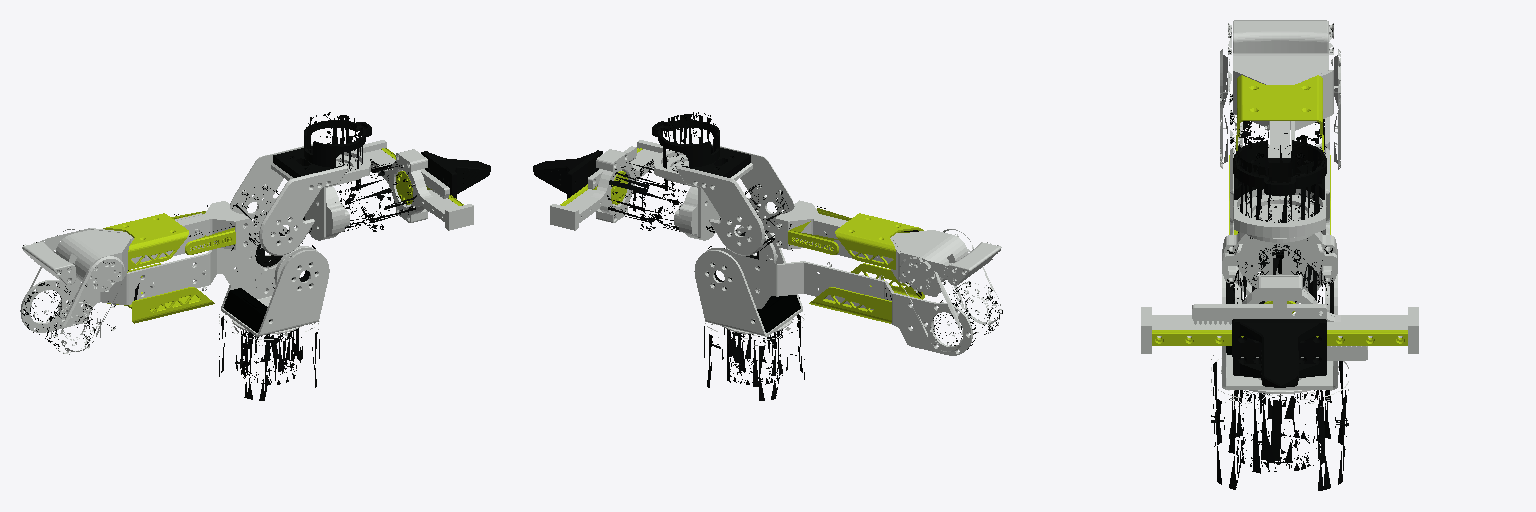
URDF robot description (ReBot_Arm_DM):
<?xml version='1.0' encoding='utf-8'?>
<robot name="ReBot_Arm_DM">
  <material name="gripper_finger_black">
    <color rgba="0.066667 0.074510 0.070588 1" />
  </material>
  <material name="gripper_carriage_grey">
    <color rgba="0.239 0.278 0.271 1" />
  </material>
  <material name="gripper_rack_metal">
    <color rgba="0.831373 0.847059 0.831373 1" />
  </material>
  <material name="gripper_seeed_yellow">
    <color rgba="0.725 0.835 0.118 1" />
  </material>
  <material name="gripper_hardware_black">
    <color rgba="0.019608 0.027451 0.023529 1" />
  </material>
  <material name="gripper_base_metal">
    <color rgba="0.831373 0.847059 0.831373 1" />
  </material>
  <material name="anodized_grey">
    <color rgba="0.831373 0.847059 0.831373 1" />
  </material>
  <material name="silver_trim">
    <color rgba="0.878431 0.890196 0.874510 1" />
  </material>
  <material name="seeed_yellow">
    <color rgba="0.73 0.84 0.12 1" />
  </material>
  <material name="matte_black">
    <color rgba="0.066667 0.074510 0.070588 1" />
  </material>
  <material name="hardware_black">
    <color rgba="0.019608 0.027451 0.023529 1" />
  </material>
  <link name="base_link">
    <inertial>
      <origin xyz="-7.849E-06 -1.1531E-06 0.029841" rpy="0 0 0" />
      <mass value="0.83660000" />
      <inertia ixx="0.00133040" ixy="0.00000001" ixz="0.00000000" iyy="0.00213119" iyz="0.00000000" izz="0.00275877" />
    </inertial>
    <visual name="base_link_silver_trim">
      <origin xyz="0 0 0" rpy="0 0 0" />
      <geometry>
        <mesh filename="visual/colored_base_link_silver_trim.stl" />
      </geometry>
      <material name="silver_trim" />
    </visual>
    <visual name="base_link_hardware_black">
      <origin xyz="0 0 0" rpy="0 0 0" />
      <geometry>
        <mesh filename="visual/colored_base_link_hardware_black.stl" />
      </geometry>
      <material name="hardware_black" />
    </visual>
    <visual name="base_link_matte_black">
      <origin xyz="0 0 0" rpy="0 0 0" />
      <geometry>
        <mesh filename="visual/colored_base_link_matte_black.stl" />
      </geometry>
      <material name="matte_black" />
    </visual>
  </link>
  <link name="link1">
    <inertial>
      <origin xyz="0.000113614552951627 -0.000616319527051323 0.0236476372671394" rpy="0 0 0" />
      <mass value="0.16130000" />
      <inertia ixx="0.00025207" ixy="0.00000000" ixz="-0.00002832" iyy="0.00015464" iyz="0.00000000" izz="0.00023416" />
    </inertial>
    <visual name="link1_matte_black">
      <origin xyz="0 0 0" rpy="0 0 0" />
      <geometry>
        <mesh filename="visual/colored_link1_matte_black.stl" />
      </geometry>
      <material name="matte_black" />
    </visual>
    <visual name="link1_hardware_black">
      <origin xyz="0 0 0" rpy="0 0 0" />
      <geometry>
        <mesh filename="visual/colored_link1_hardware_black.stl" />
      </geometry>
      <material name="hardware_black" />
    </visual>
    <visual name="link1_anodized_grey">
      <origin xyz="0 0 0" rpy="0 0 0" />
      <geometry>
        <mesh filename="visual/colored_link1_anodized_grey.stl" />
      </geometry>
      <material name="anodized_grey" />
    </visual>
  </link>
  <joint name="joint1" type="revolute">
    <origin xyz="-8.416E-05 0 0.08465" rpy="0 0 0" />
    <parent link="base_link" />
    <child link="link1" />
    <axis xyz="0 0 1" />
    <limit lower="-2.8" upper="2.8" effort="27" velocity="50" />
  </joint>
  <link name="link2">
    <inertial>
      <origin xyz="-0.13225622308888 -0.0030617036386309 -0.0308306967030205" rpy="0 0 0" />
      <mass value="1.32660000" />
      <inertia ixx="0.00073374" ixy="-0.00000043" ixz="0.00000851" iyy="0.01255987" iyz="0.00000128" izz="0.01281387" />
    </inertial>
    <visual name="link2_seeed_yellow">
      <origin xyz="0 0 0" rpy="0 0 0" />
      <geometry>
        <mesh filename="visual/colored_link2_seeed_yellow.stl" />
      </geometry>
      <material name="seeed_yellow" />
    </visual>
    <visual name="link2_matte_black">
      <origin xyz="0 0 0" rpy="0 0 0" />
      <geometry>
        <mesh filename="visual/colored_link2_matte_black.stl" />
      </geometry>
      <material name="matte_black" />
    </visual>
    <visual name="link2_hardware_black">
      <origin xyz="0 0 0" rpy="0 0 0" />
      <geometry>
        <mesh filename="visual/colored_link2_hardware_black.stl" />
      </geometry>
      <material name="hardware_black" />
    </visual>
    <visual name="link2_anodized_grey">
      <origin xyz="0 0 0" rpy="0 0 0" />
      <geometry>
        <mesh filename="visual/colored_link2_anodized_grey.stl" />
      </geometry>
      <material name="anodized_grey" />
    </visual>
  </link>
  <joint name="joint2" type="revolute">
    <origin xyz="0.020084 0.031625 0.05555" rpy="-1.5708 0 0" />
    <parent link="link1" />
    <child link="link2" />
    <axis xyz="0 0 -1" />
    <limit lower="-3.14" upper="0" effort="27" velocity="50" />
  </joint>
  <link name="link3">
    <inertial>
      <origin xyz="0.121040035791843 -0.0536211076627949 -0.0310137854608077" rpy="0 0 0" />
      <mass value="0.83530000" />
      <inertia ixx="0.00046807" ixy="-0.00003456" ixz="-0.00004260" iyy="0.00632695" iyz="0.00000006" izz="0.00648221" />
    </inertial>
    <visual name="link3_seeed_yellow">
      <origin xyz="0 0 0" rpy="0 0 0" />
      <geometry>
        <mesh filename="visual/colored_link3_seeed_yellow.stl" />
      </geometry>
      <material name="seeed_yellow" />
    </visual>
    <visual name="link3_matte_black">
      <origin xyz="0 0 0" rpy="0 0 0" />
      <geometry>
        <mesh filename="visual/colored_link3_matte_black.stl" />
      </geometry>
      <material name="matte_black" />
    </visual>
    <visual name="link3_hardware_black">
      <origin xyz="0 0 0" rpy="0 0 0" />
      <geometry>
        <mesh filename="visual/colored_link3_hardware_black.stl" />
      </geometry>
      <material name="hardware_black" />
    </visual>
    <visual name="link3_anodized_grey">
      <origin xyz="0 0 0" rpy="0 0 0" />
      <geometry>
        <mesh filename="visual/colored_link3_anodized_grey.stl" />
      </geometry>
      <material name="anodized_grey" />
    </visual>
  </link>
  <joint name="joint3" type="revolute">
    <origin xyz="-0.264 0 0" rpy="0 0 0" />
    <parent link="link2" />
    <child link="link3" />
    <axis xyz="0 0 1" />
    <limit lower="-3.14" upper="0" effort="27" velocity="50" />
  </joint>
  <link name="link4">
    <inertial>
      <origin xyz="0.0608200956293136 -0.0511711906613122 -0.030299458623927" rpy="0 0 0" />
      <mass value="0.52000000" />
      <inertia ixx="0.00045986" ixy="0.00024219" ixz="-0.00000672" iyy="0.00075258" iyz="-0.00000535" izz="0.00066742" />
    </inertial>
    <visual name="link4_seeed_yellow">
      <origin xyz="0 0 0" rpy="0 0 0" />
      <geometry>
        <mesh filename="visual/colored_link4_seeed_yellow.stl" />
      </geometry>
      <material name="matte_black" />
    </visual>
    <visual name="link4_matte_black">
      <origin xyz="0 0 0" rpy="0 0 0" />
      <geometry>
        <mesh filename="visual/colored_link4_matte_black.stl" />
      </geometry>
      <material name="matte_black" />
    </visual>
    <visual name="link4_hardware_black">
      <origin xyz="0 0 0" rpy="0 0 0" />
      <geometry>
        <mesh filename="visual/colored_link4_hardware_black.stl" />
      </geometry>
      <material name="hardware_black" />
    </visual>
    <visual name="link4_anodized_grey">
      <origin xyz="0 0 0" rpy="0 0 0" />
      <geometry>
        <mesh filename="visual/colored_link4_anodized_grey.stl" />
      </geometry>
      <material name="anodized_grey" />
    </visual>
  </link>
  <joint name="joint4" type="revolute">
    <origin xyz="0.2426 -0.054 -0.001625" rpy="0 0 0" />
    <parent link="link3" />
    <child link="link4" />
    <axis xyz="0 0 1" />
    <limit lower="-1.87" upper="1.57" effort="7" velocity="200" />
  </joint>
  <link name="link5">
    <inertial>
      <origin xyz="-0.00502802058982517 1.73866206692364E-06 0.0386233236326755" rpy="0 0 0" />
      <mass value="0.38300000" />
      <inertia ixx="0.00019772" ixy="-0.00000062" ixz="-0.00002426" iyy="0.00021737" iyz="0.00000002" izz="0.00017191" />
    </inertial>
    <visual name="link5_matte_black">
      <origin xyz="0 0 0" rpy="0 0 0" />
      <geometry>
        <mesh filename="visual/colored_link5_matte_black.stl" />
      </geometry>
      <material name="matte_black" />
    </visual>
    <visual name="link5_hardware_black">
      <origin xyz="0 0 0" rpy="0 0 0" />
      <geometry>
        <mesh filename="visual/colored_link5_hardware_black.stl" />
      </geometry>
      <material name="hardware_black" />
    </visual>
    <visual name="link5_anodized_grey">
      <origin xyz="0 0 0" rpy="0 0 0" />
      <geometry>
        <mesh filename="visual/colored_link5_anodized_grey.stl" />
      </geometry>
      <material name="anodized_grey" />
    </visual>
  </link>
  <joint name="joint5" type="revolute">
    <origin xyz="0.078308 -0.0375 -0.03" rpy="-1.5708 0 0" />
    <parent link="link4" />
    <child link="link5" />
    <axis xyz="0 0 1" />
    <limit lower="-1.57" upper="1.57" effort="7" velocity="200" />
  </joint>
  <link name="link6">
    <inertial>
      <origin xyz="3.76418727127126E-06 -0.000100908819946677 0.0253308606425965" rpy="0 0 0" />
      <mass value="0.36630000" />
      <inertia ixx="0.00015554" ixy="-0.00000" ixz="-0.00000" iyy="0.00015554" iyz="-0.0000" izz="0.00013966" />
    </inertial>
    <visual name="link6_matte_black">
      <origin xyz="0 0 0" rpy="0 0 0" />
      <geometry>
        <mesh filename="visual/colored_link6_matte_black.stl" />
      </geometry>
      <material name="matte_black" />
    </visual>
    <visual name="link6_hardware_black">
      <origin xyz="0 0 0" rpy="0 0 0" />
      <geometry>
        <mesh filename="visual/colored_link6_hardware_black.stl" />
      </geometry>
      <material name="hardware_black" />
    </visual>
  </link>
  <joint name="joint6" type="revolute">
    <origin xyz="0.028008 0 0.04" rpy="0 1.5708 0" />
    <parent link="link5" />
    <child link="link6" />
    <axis xyz="0 0 1" />
    <limit lower="-3.14" upper="3.14" effort="7" velocity="200" />
  </joint>
  <link name="end_link">
    <inertial>
      <origin xyz="-0.0737654295815033 -9.5080995865868E-06 7.04327840286845E-06" rpy="0 0 0" />
      <mass value="0.5000000" />
      <inertia ixx="0.00037354" ixy="-0.00000011" ixz="0.00000050" iyy="0.00015830" iyz="0.00000348" izz="0.00045353" />
    </inertial>
    <visual name="gripper_base_seeed_yellow">
      <origin xyz="0 0 0" rpy="0 0 0" />
      <geometry>
        <mesh filename="visual/colored_gripper_base_seeed_yellow.stl" />
      </geometry>
      <material name="gripper_seeed_yellow" />
    </visual>
    <visual name="gripper_base_hardware_black">
      <origin xyz="0 0 0" rpy="0 0 0" />
      <geometry>
        <mesh filename="visual/colored_gripper_base_hardware_black.stl" />
      </geometry>
      <material name="gripper_hardware_black" />
    </visual>
    <visual name="gripper_base_metal">
      <origin xyz="0 0 0" rpy="0 0 0" />
      <geometry>
        <mesh filename="visual/colored_gripper_base_metal.stl" />
      </geometry>
      <material name="gripper_base_metal" />
    </visual>
  </link>
  <joint name="end_joint" type="fixed">
    <origin xyz="0 0 0.15539" rpy="0 -1.5708 3.1415" />
    <parent link="link6" />
    <child link="end_link" />
    <axis xyz="0 0 0" />
  </joint>
  <link name="finger_left_link">
    <visual name="finger_left_body">
      <origin xyz="0 0 0" rpy="0 0 0" />
      <geometry>
        <mesh filename="visual/colored_left_finger_finger_black.stl" />
      </geometry>
      <material name="gripper_finger_black" />
    </visual>
    <visual name="finger_left_carriage">
      <origin xyz="0 0 0" rpy="0 0 0" />
      <geometry>
        <mesh filename="shared/colored_left_finger_carriage_grey.stl" />
      </geometry>
      <material name="gripper_carriage_grey" />
    </visual>
    <visual name="finger_left_travel_stop">
      <origin xyz="0 0 0" rpy="0 0 0" />
      <geometry>
        <mesh filename="shared/colored_left_finger_travel_stop_yellow.stl" />
      </geometry>
      <material name="gripper_seeed_yellow" />
    </visual>
    <visual name="finger_left_crossed_rack">
      <origin xyz="0 0 0" rpy="0 0 0" />
      <geometry>
        <mesh filename="visual/colored_left_finger_rack_metal.stl" />
      </geometry>
      <material name="gripper_rack_metal" />
    </visual>
  </link>
  <joint name="finger_left" type="prismatic">
    <origin xyz="0 0 0" rpy="0 0 0" />
    <parent link="end_link" />
    <child link="finger_left_link" />
    <axis xyz="0 1 0" />
    <limit lower="0" upper="0.05" effort="8" velocity="0.08" />
  </joint>
  <link name="finger_right_link">
    <visual name="finger_right_body">
      <origin xyz="0 0 0" rpy="0 0 0" />
      <geometry>
        <mesh filename="visual/colored_right_finger_finger_black.stl" />
      </geometry>
      <material name="gripper_finger_black" />
    </visual>
    <visual name="finger_right_carriage">
      <origin xyz="0 0 0" rpy="0 0 0" />
      <geometry>
        <mesh filename="shared/colored_right_finger_carriage_grey.stl" />
      </geometry>
      <material name="gripper_carriage_grey" />
    </visual>
    <visual name="finger_right_travel_stop">
      <origin xyz="0 0 0" rpy="0 0 0" />
      <geometry>
        <mesh filename="shared/colored_right_finger_travel_stop_yellow.stl" />
      </geometry>
      <material name="gripper_seeed_yellow" />
    </visual>
    <visual name="finger_right_crossed_rack">
      <origin xyz="0 0 0" rpy="0 0 0" />
      <geometry>
        <mesh filename="visual/colored_right_finger_rack_metal.stl" />
      </geometry>
      <material name="gripper_rack_metal" />
    </visual>
  </link>
  <joint name="finger_right" type="prismatic">
    <origin xyz="0 0 0" rpy="0 0 0" />
    <parent link="end_link" />
    <child link="finger_right_link" />
    <axis xyz="0 1 0" />
    <limit lower="-0.05" upper="0" effort="8" velocity="0.08" />
    <mimic joint="finger_left" multiplier="-1" offset="0" />
  </joint>
</robot>

--- Facts derived from the render (not from the file) ---
The picture shows the robot from 3 angles, left to right: view 1: azimuth 30°, elevation 25°; view 2: azimuth 150°, elevation 25°; view 3: azimuth 270°, elevation 25°; orthographic projection.
Robot: ReBot_Arm_DM — 10 links, 9 joints (6 revolute, 2 prismatic, 1 fixed); root link base_link; default pose: every joint at zero.
Visible links, largest first — view 1: link3, link2, link4, link1, end_link, base_link, link5, finger_right_link, link6, finger_left_link; view 2: link3, link2, link4, link1, end_link, base_link, link5, finger_left_link, link6; view 3: link3, link4, end_link, link5, base_link, finger_left_link, finger_right_link, link1, link2, link6.
Link boxes in pixels (x1,y1,x2,y2): link3: (22, 184, 289, 351); link2: (20, 226, 316, 354); link4: (230, 112, 371, 255); link1: (221, 226, 329, 336); end_link: (359, 140, 473, 230); base_link: (219, 314, 319, 400); link5: (303, 161, 366, 248); finger_right_link: (424, 162, 490, 212); link6: (343, 159, 416, 231); finger_left_link: (421, 151, 489, 198); link3: (720, 184, 1001, 351); link2: (707, 226, 1002, 355); link4: (652, 112, 793, 255); link1: (694, 226, 802, 336); end_link: (550, 140, 662, 230); base_link: (704, 311, 804, 400); link5: (656, 158, 719, 248); finger_left_link: (533, 146, 636, 198); link6: (607, 159, 678, 230); link3: (1220, 20, 1340, 232); link4: (1230, 132, 1329, 237); end_link: (1141, 275, 1418, 380); link5: (1222, 204, 1337, 303); base_link: (1211, 355, 1348, 490); finger_left_link: (1192, 304, 1326, 387); finger_right_link: (1232, 319, 1367, 387); link1: (1222, 274, 1337, 389); link2: (1229, 94, 1330, 312); link6: (1233, 245, 1327, 304).
Size in the robot's own frame: 0.5328 by 0.1841 by 0.2682 metres.
30 mesh visuals loaded from 34 distinct referenced files (30 binary STL); not drawn: 4 (reference not matched to a file when rendering).
